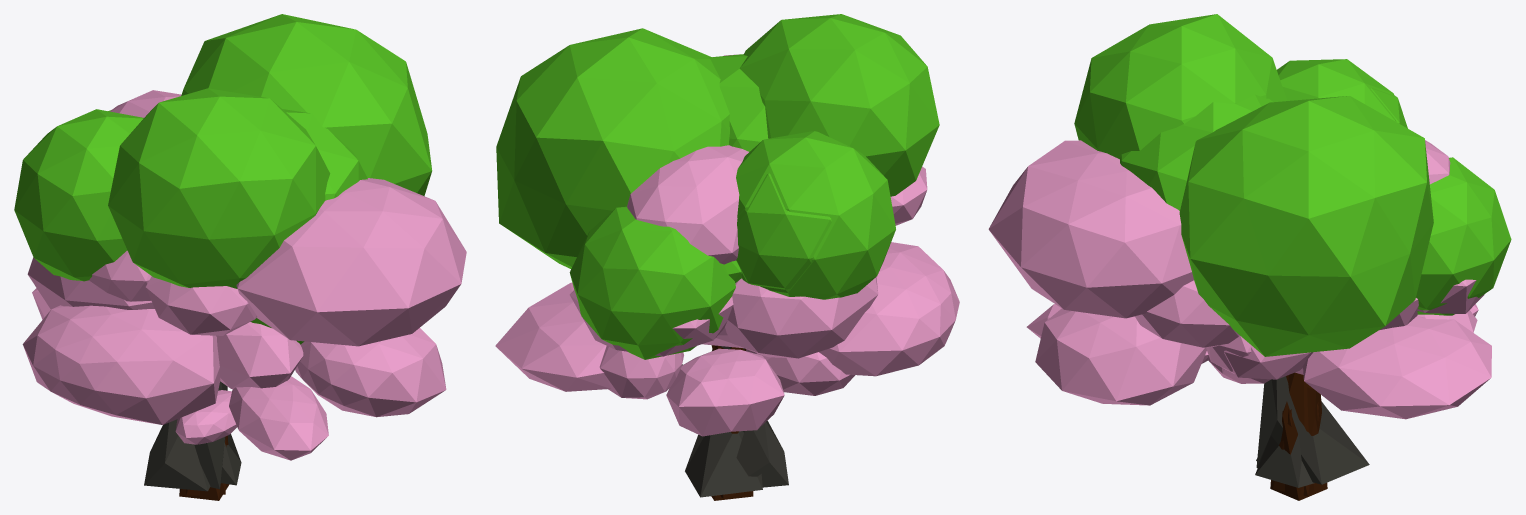
Rendered from treess.gltf.
3 views of the same model, side by side, from view 1: azimuth 30°, elevation 25°; view 2: azimuth 150°, elevation 25°; view 3: azimuth 270°, elevation 25° (orthographic).
Visible parts, largest first — view 1: tree1, sakura2, sakura0, tree0, sakura1; view 2: tree1, sakura2, tree0, sakura1, sakura0, tree2; view 3: tree1, sakura2, tree0, sakura0, sakura1, tree2.
Boxes of the visible parts, <box> form: tree1: <box>14,14,432,495</box>; sakura2: <box>22,90,466,489</box>; sakura0: <box>27,257,303,491</box>; tree0: <box>108,109,367,500</box>; sakura1: <box>32,288,241,485</box>; tree1: <box>496,14,939,498</box>; sakura2: <box>495,54,959,497</box>; tree0: <box>569,54,831,500</box>; sakura1: <box>599,327,855,436</box>; sakura0: <box>569,277,878,487</box>; tree2: <box>711,66,767,492</box>; tree1: <box>1074,14,1433,496</box>; sakura2: <box>988,140,1491,484</box>; tree0: <box>1120,88,1511,500</box>; sakura0: <box>1135,279,1484,460</box>; sakura1: <box>1224,304,1478,487</box>; tree2: <box>1144,94,1327,500</box>.
Size of the model in its own units: 11.17 by 11.86 by 12.73.
